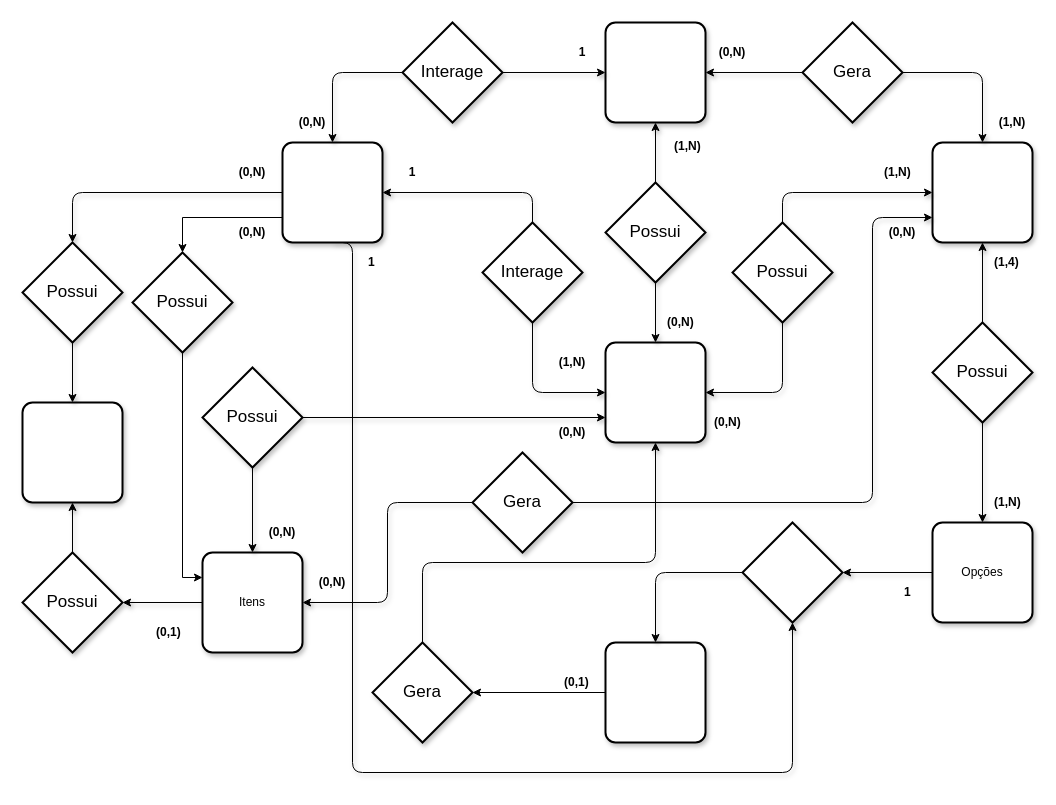
The diagram is 1056 pixels wide and 805 high, and some of its shapes have lost their labels. Here are the shapes that lost their labels. From the top down, the centre of each, then its label:
point (656, 73): Inimigos
point (333, 193): Personagem
point (983, 193): Eventos
point (656, 393): Cenário
point (73, 453): Habilidades
point (793, 573): Faz
point (656, 693): Escolha
